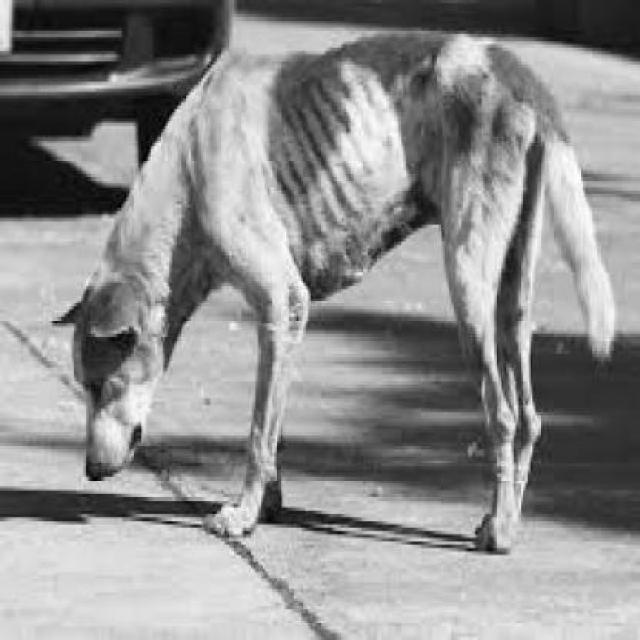Dog: (56, 47, 630, 567)
